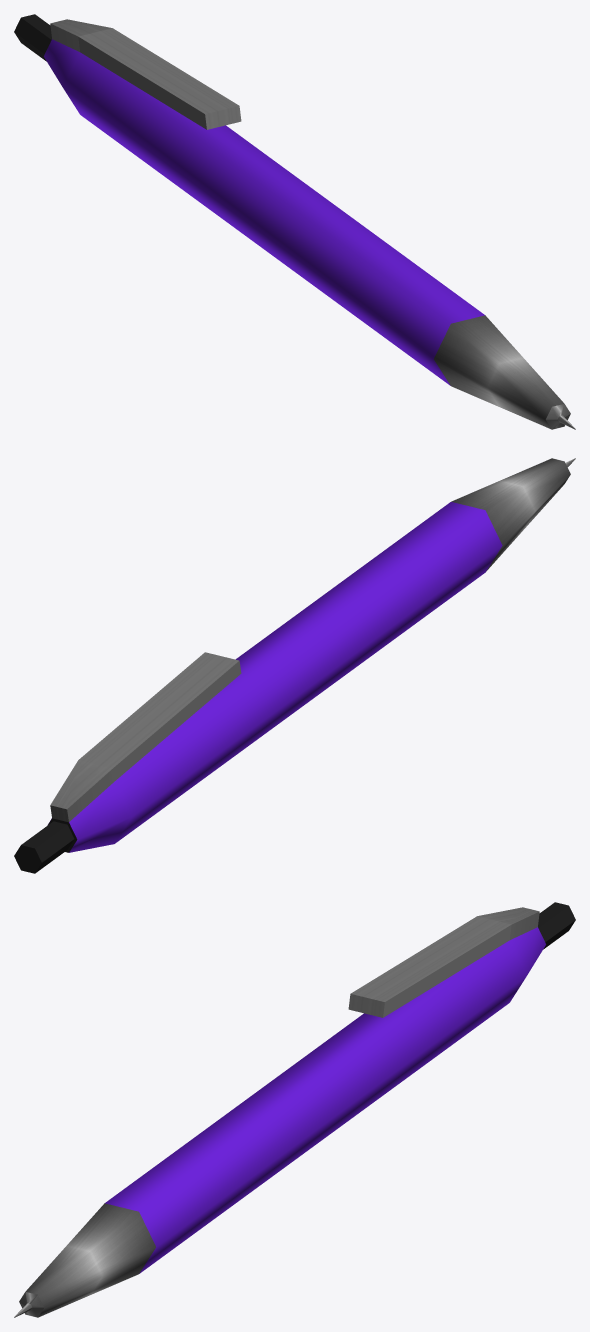
File: Pen_D.FBX
The picture shows the model from 3 angles, top to bottom: view 1: azimuth 30°, elevation 25°; view 2: azimuth 150°, elevation 25°; view 3: azimuth 330°, elevation 25°; orthographic projection.
Parts seen in each view (by area): view 1: Pen; view 2: Pen; view 3: Pen.
Part boxes in pixels (x1,y1,x2,y2): Pen: (14,14,575,429); Pen: (14,458,575,873); Pen: (14,902,575,1317).
Size of the model in its own units: 4 by 5.1 by 55.01.
